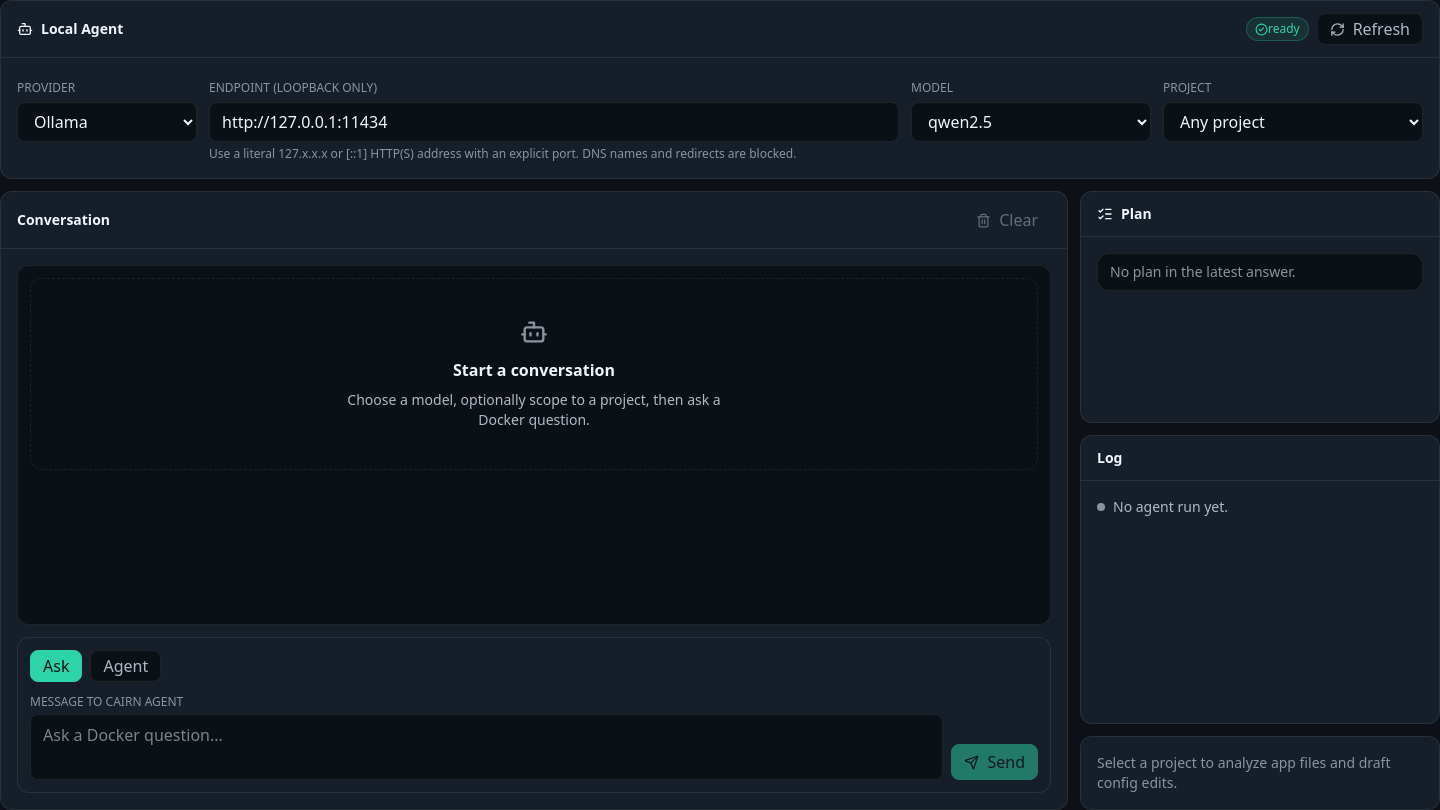
it: AgentPage conversation ownership › does not let an older status refresh overwrite a newer settings refresh
This screenshot has width=1440, height=810.
Check: the dropdown labelled "Provider" shows "Ollama", box [17,102,197,142]
Click the button "Refresh" at {"x": 1370, "y": 29}, box [1317,13,1423,45]
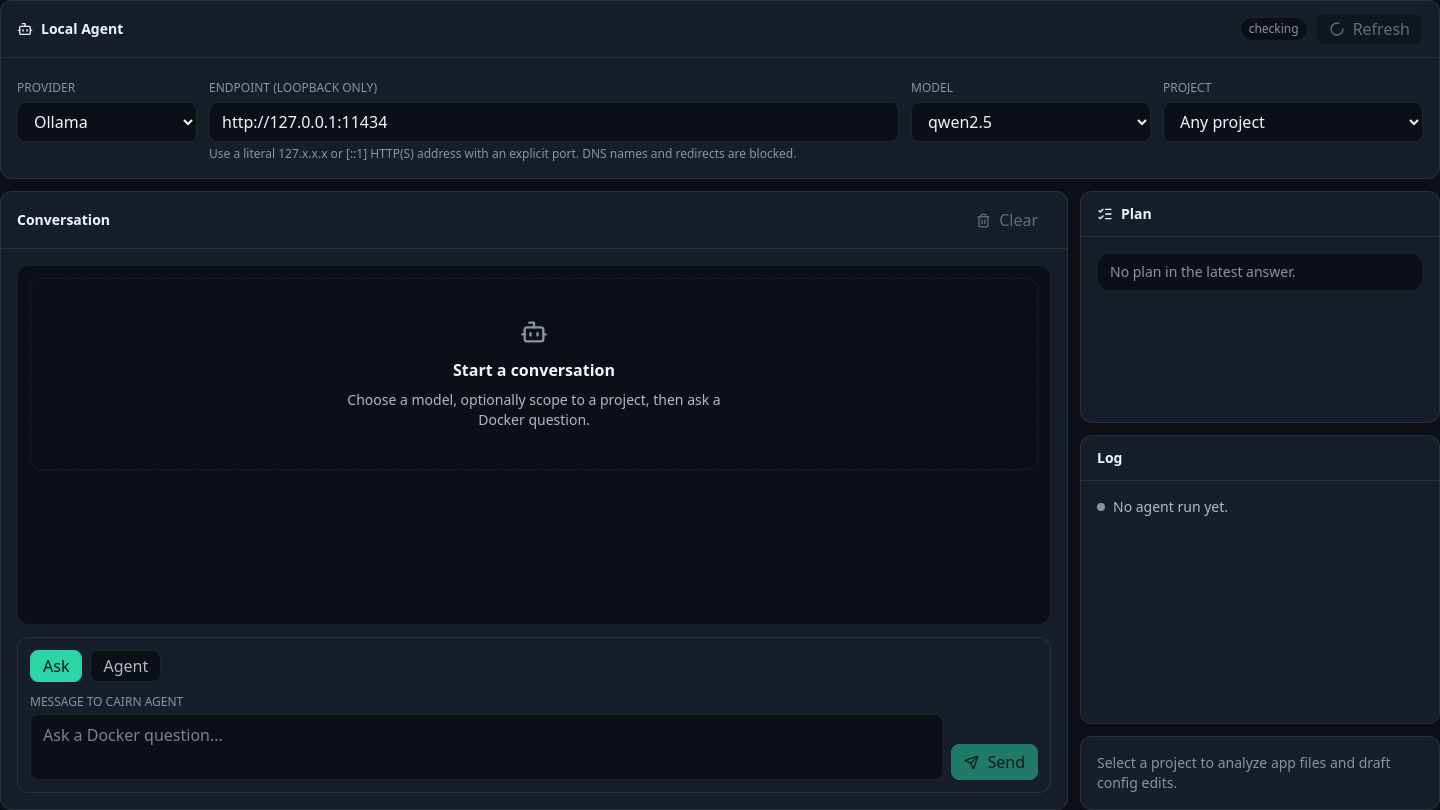
Select "OpenAI-compatible" in the dropdown labelled "Provider" at {"x": 107, "y": 122}, box [17,102,197,142]
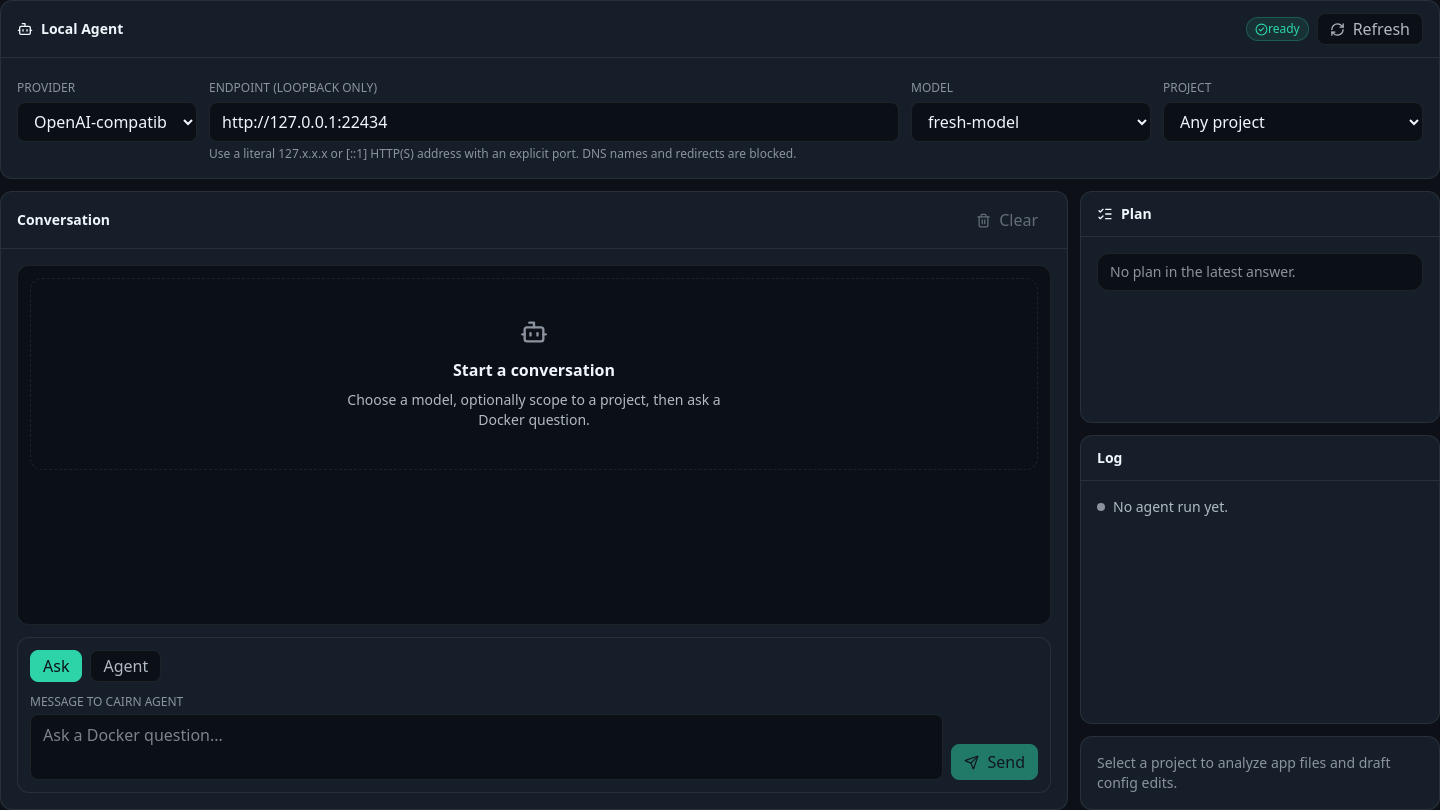
Check: the field labelled "Endpoint" holds "http://127.0.0.1:22434", box [209,102,899,142]
